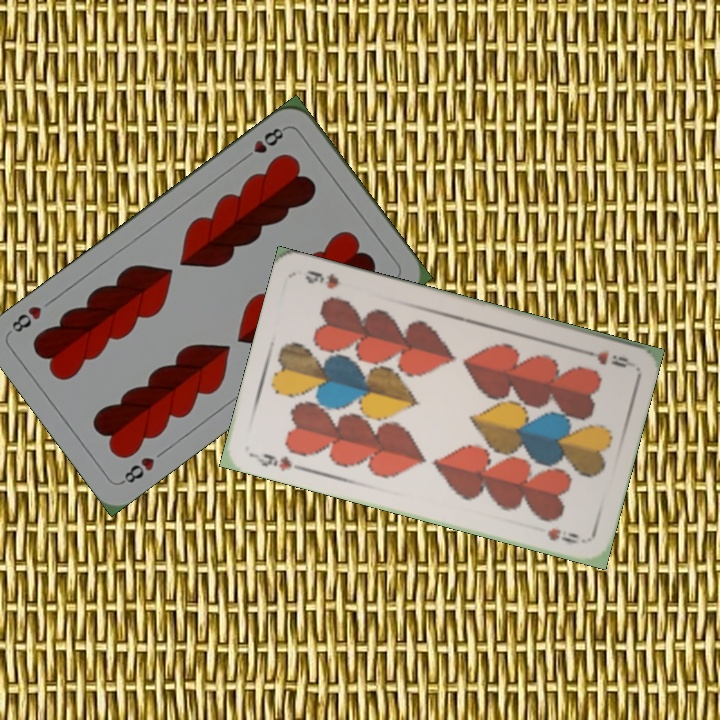H8: (238, 123, 289, 164), (116, 452, 157, 487)
H9: (575, 344, 634, 371), (247, 449, 306, 474)
